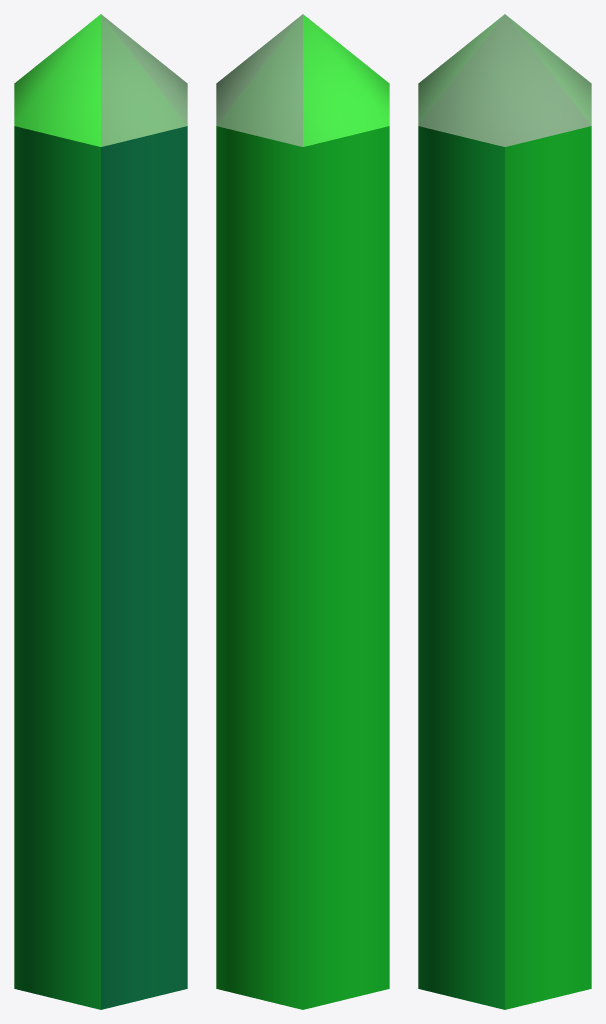
The model's file is Solo.RocketMesh.GreenEarth.glb.
The picture shows the model from 3 angles, left to right: view 1: azimuth 30°, elevation 25°; view 2: azimuth 150°, elevation 25°; view 3: azimuth 270°, elevation 25°; orthographic projection.
Visible parts, largest first — view 1: Solo.RocketMesh.GreenEarth; view 2: Solo.RocketMesh.GreenEarth; view 3: Solo.RocketMesh.GreenEarth.
Part boxes in pixels (box(x1,y1,x2,y2)): Solo.RocketMesh.GreenEarth: box(14, 14, 187, 1009); Solo.RocketMesh.GreenEarth: box(216, 14, 389, 1009); Solo.RocketMesh.GreenEarth: box(418, 14, 591, 1009).
Size of the model in its own units: 0.2 by 1.05 by 0.1732.
1 material, 1 textured.
